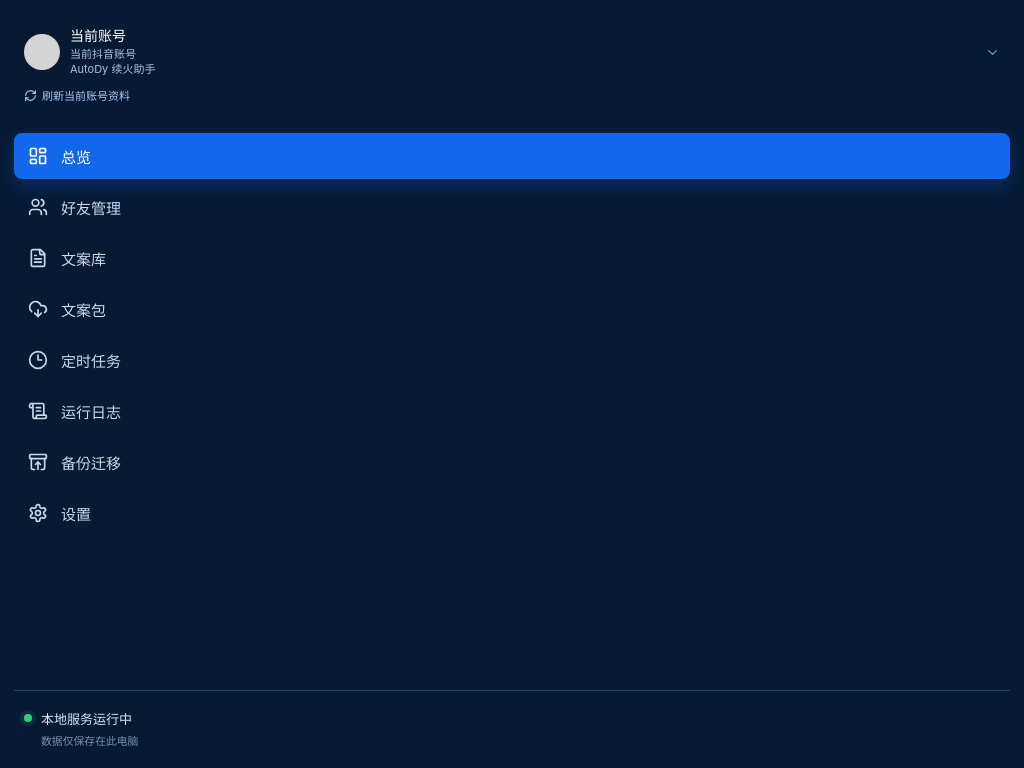
Test: opens a compact account popover from the avatar identity
Click the button with aria-label "打开账号切换器": (42, 52) 14,25 -> 1010,79
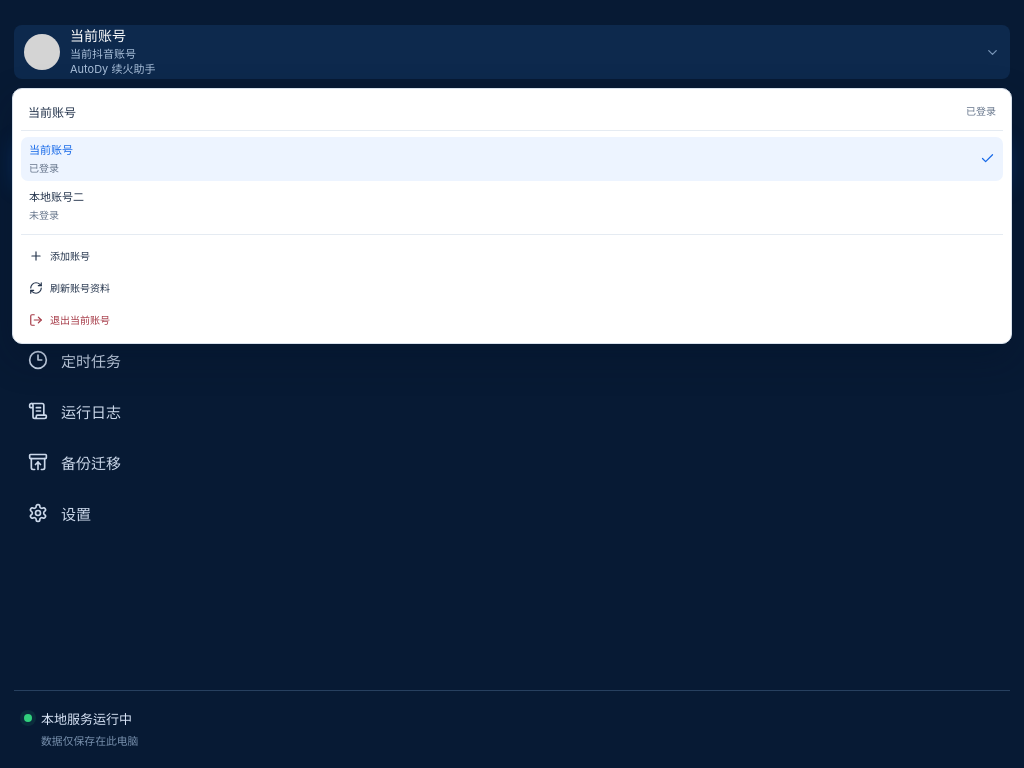
Check: the number of icons with class "lucide-chevron-down" is 1, box 985,44 -> 1000,60
Check: the 3rd text with class "account-profile-name" reads "当前账号", box 29,143 -> 73,157
Check: the 2nd text with class "account-profile-meta" reads "已登录", box 29,162 -> 59,174
